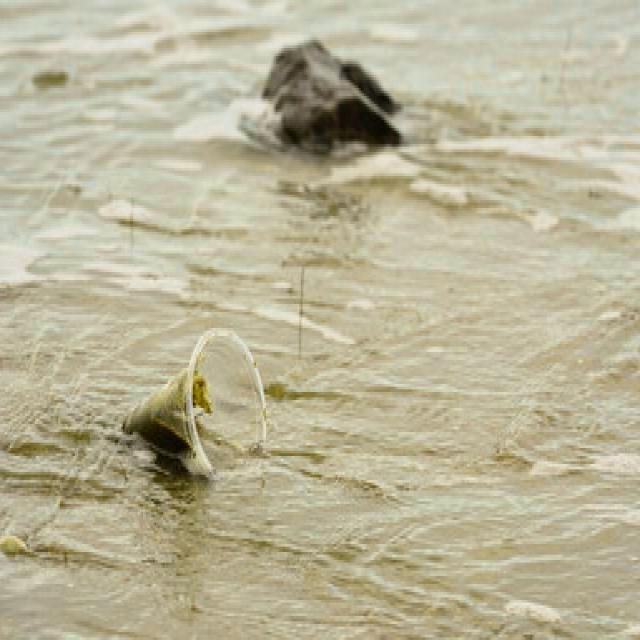Plastic: (115, 325, 273, 482)
